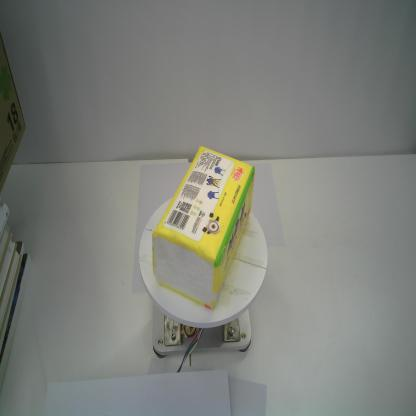Tissue: (151, 144, 256, 310)
